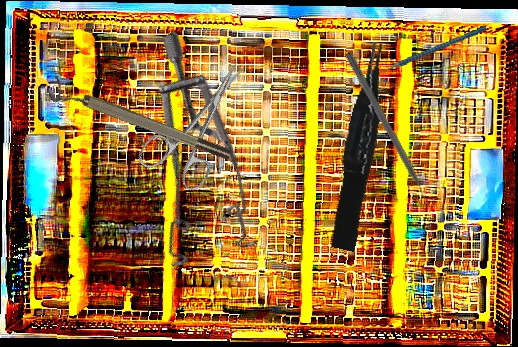Chopper: (367, 25, 490, 85)
Fixation Ring: (45, 75, 234, 171)
Iris Scissors: (133, 45, 272, 201)
Pusher: (342, 50, 434, 210)
Speculum: (57, 29, 311, 294)
Tissue Forceps: (321, 40, 402, 253)
